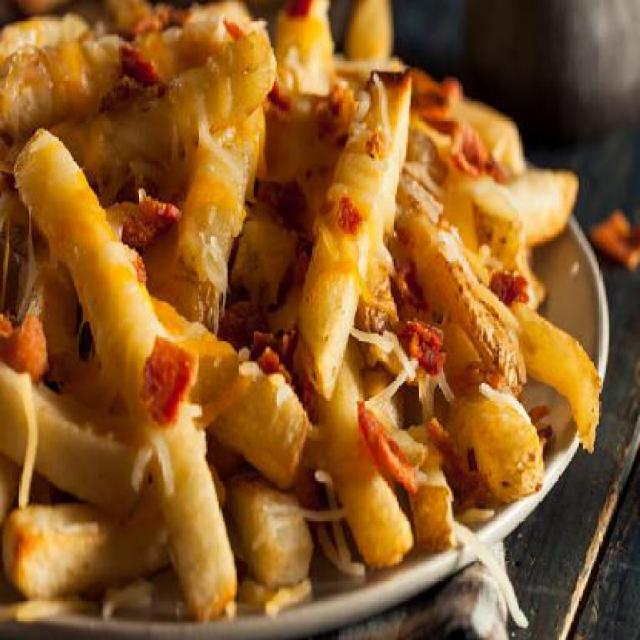fries: (1, 0, 603, 615)
